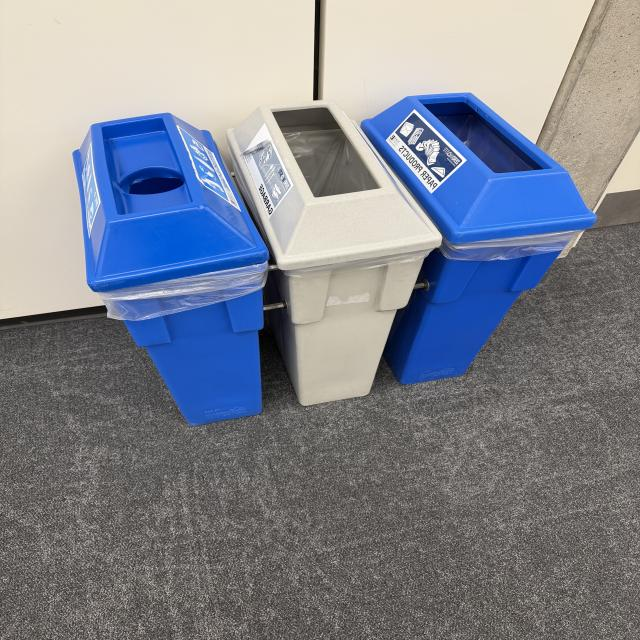Dustbin: (68, 91, 596, 426)
